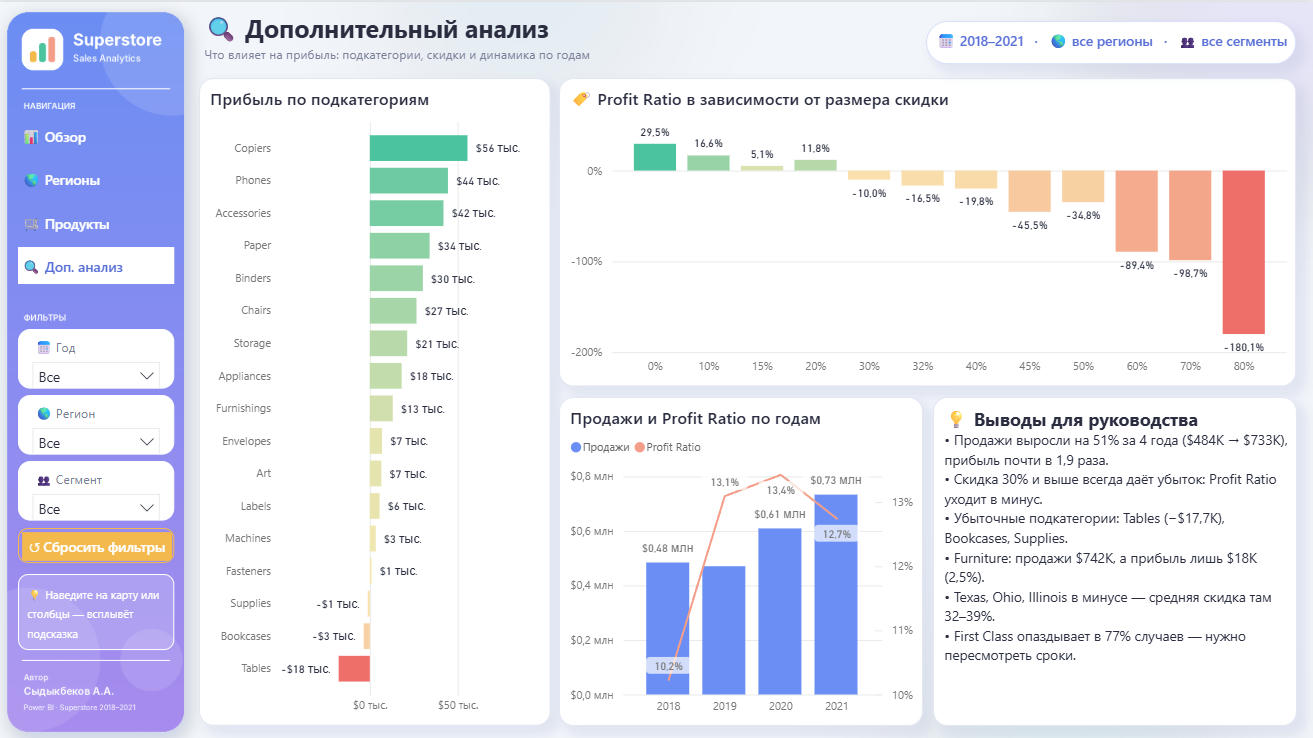

The dashboard page shown, as its layout file describes it:
{"tool":"powerbi","page":{"name":"Доп. анализ","canvas":[1280,720],"ordinal":3},"visuals":[{"type":"textbox","box":[196,4,700,66],"z":27000},{"type":"clusteredBarChart","title":"Прибыль по подкатегориям","fields":{"Category":["Orders.Sub-Category"],"Y":["Orders.Total Profit"]},"box":[196,74,342,630],"z":28000},{"type":"clusteredColumnChart","title":"🏷️ Profit Ratio в зависимости от размера скидки","fields":{"Category":["Orders.Discount"],"Y":["Orders.Profit Ratio"]},"box":[547,74,717,300],"z":29000},{"type":"lineClusteredColumnComboChart","title":"Продажи и Profit Ratio по годам","fields":{"Category":["Orders.Order Year"],"Y":["Orders.Total Sales"],"Y2":["Orders.Profit Ratio"]},"box":[547,384,354,320],"z":30000},{"type":"textbox","box":[910,384,354,320],"z":31000},{"type":"actionButton","box":[20,112,152,36],"z":50000},{"type":"actionButton","box":[20,154,152,36],"z":50100},{"type":"actionButton","box":[20,196,152,36],"z":50200},{"type":"actionButton","box":[20,238,152,36],"z":50300},{"type":"slicer","fields":{"Values":["Orders.Order Year"]},"box":[20,318,152,58],"z":50400},{"type":"slicer","fields":{"Values":["Orders.Region"]},"box":[20,382,152,58],"z":50500},{"type":"slicer","fields":{"Values":["Orders.Segment"]},"box":[20,446,152,58],"z":50600},{"type":"actionButton","box":[20,512,152,34],"z":50700},{"type":"textbox","box":[20,556,152,74],"z":50800},{"type":"card","fields":{"Values":["Orders.Filter Label"]},"box":[904,18,360,42],"z":50900}]}

Visuals, with their boxes on the page's 1280x720 design canvas (x1, y1, x2, y2). These are canvas units, not pixel positions in the 1313x738 screenshot, which may show the page scaled, cropped or inside an application window:
textbox: box(196, 4, 896, 70)
"Прибыль по подкатегориям" clusteredBarChart: box(196, 74, 538, 704)
"🏷️ Profit Ratio в зависимости от размера скидки" clusteredColumnChart: box(547, 74, 1264, 374)
"Продажи и Profit Ratio по годам" lineClusteredColumnComboChart: box(547, 384, 901, 704)
textbox: box(910, 384, 1264, 704)
actionButton: box(20, 112, 172, 148)
actionButton: box(20, 154, 172, 190)
actionButton: box(20, 196, 172, 232)
actionButton: box(20, 238, 172, 274)
slicer - Orders.Order Year: box(20, 318, 172, 376)
slicer - Orders.Region: box(20, 382, 172, 440)
slicer - Orders.Segment: box(20, 446, 172, 504)
actionButton: box(20, 512, 172, 546)
textbox: box(20, 556, 172, 630)
card - Orders.Filter Label: box(904, 18, 1264, 60)
